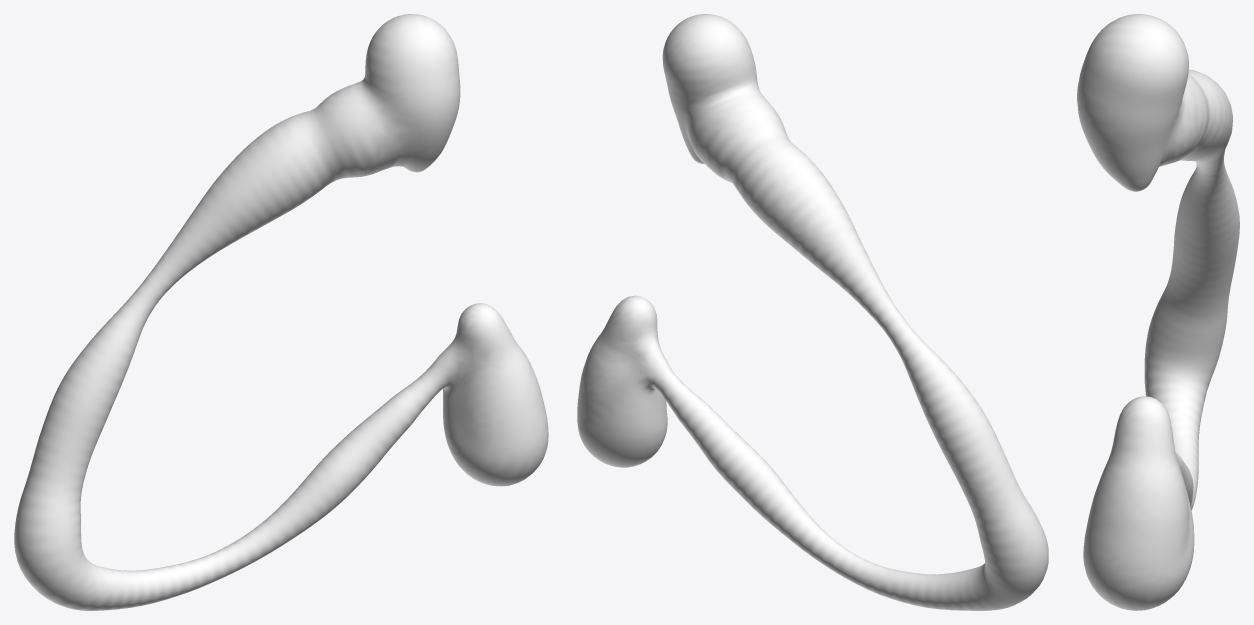
File: website_3d_cumberlandsche.glb
3 views of the same model, side by side, from view 1: azimuth 30°, elevation 25°; view 2: azimuth 150°, elevation 25°; view 3: azimuth 270°, elevation 25° (orthographic). The views are drawn at different scales.
Visible parts, largest first — view 1: cumberlandsche_abstract; view 2: cumberlandsche_abstract; view 3: cumberlandsche_abstract.
Part boxes in pixels (box(x1,y1,x2,y2)): cumberlandsche_abstract: box(14, 14, 548, 610); cumberlandsche_abstract: box(577, 14, 1048, 610); cumberlandsche_abstract: box(1077, 14, 1239, 610).
Size of the model in its own units: 1.58 by 1.62 by 0.3998.
Materials: 1 (1 with a texture image).
